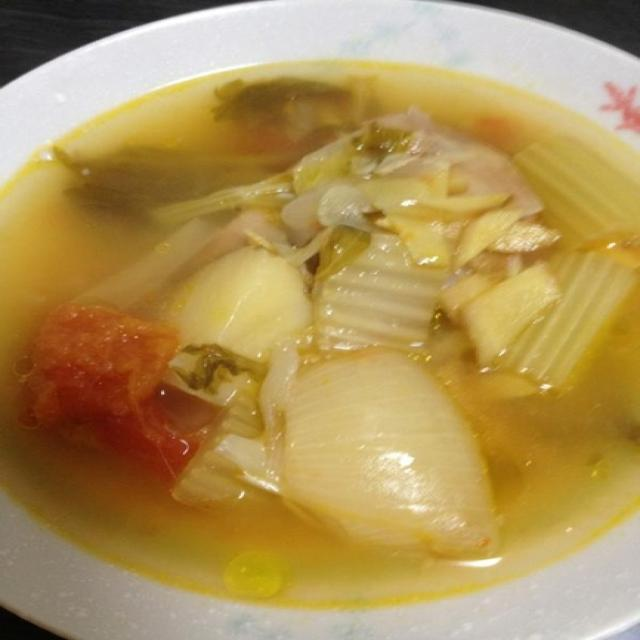汤锅炖物: (13, 23, 636, 604)
